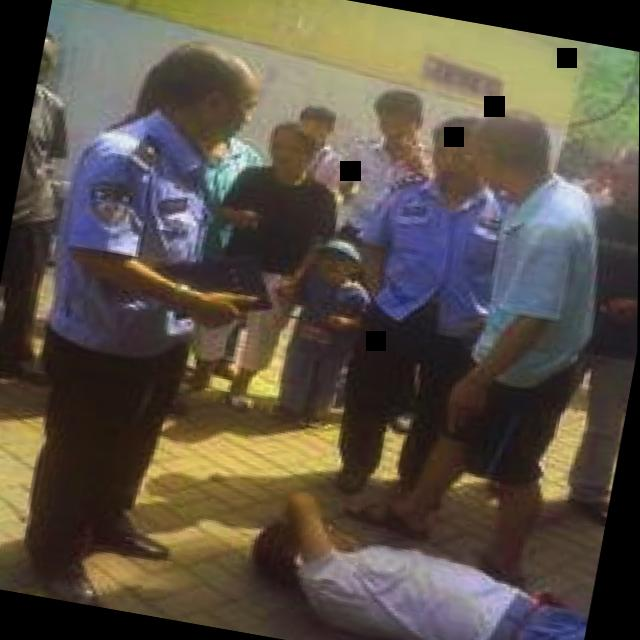Fall-Detected: (229, 455, 607, 640)
